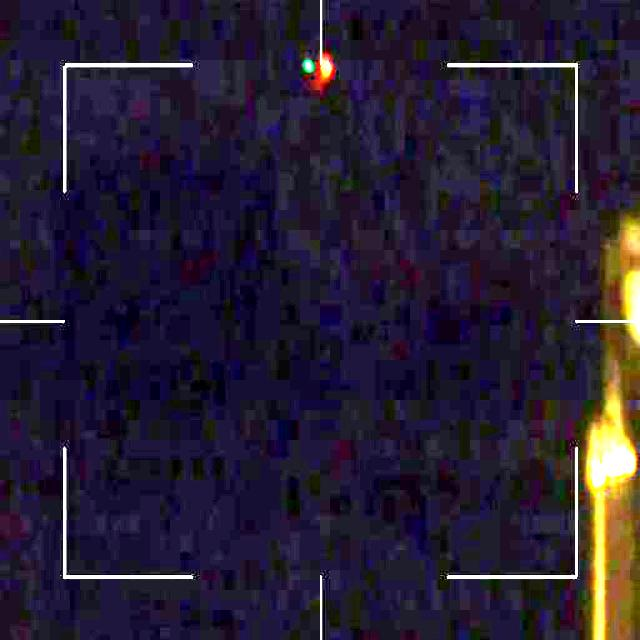bird: (302, 52, 332, 90)
